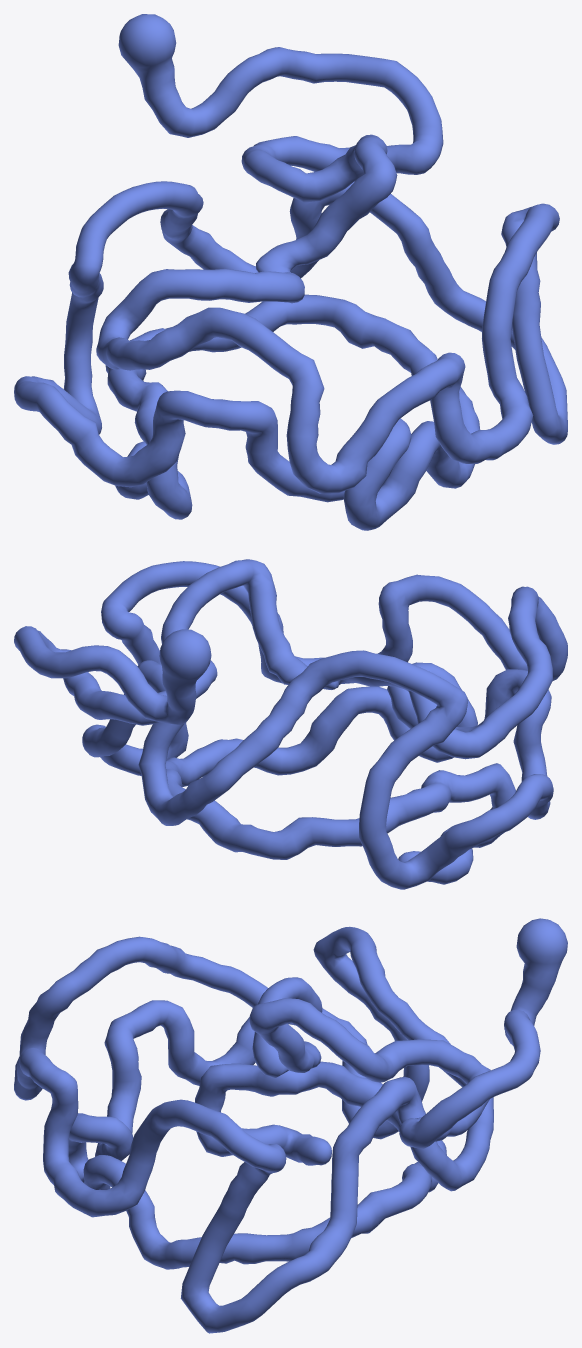
Rendered from ClockSpin.glb.
3 renders of one model, top to bottom at view 1: azimuth 30°, elevation 25°; view 2: azimuth 150°, elevation 25°; view 3: azimuth 270°, elevation 25°, orthographic. The views are drawn at different scales.
Parts seen in each view (by area): view 1: Retopo_Layer_24; view 2: Retopo_Layer_24; view 3: Retopo_Layer_24.
Part boxes in pixels (x1=…): Retopo_Layer_24: x1=14, y1=14, x2=567, y2=530; Retopo_Layer_24: x1=14, y1=559, x2=567, y2=889; Retopo_Layer_24: x1=14, y1=918, x2=567, y2=1333.
Size of the model in its own units: 74.21 by 48.43 by 77.51.
